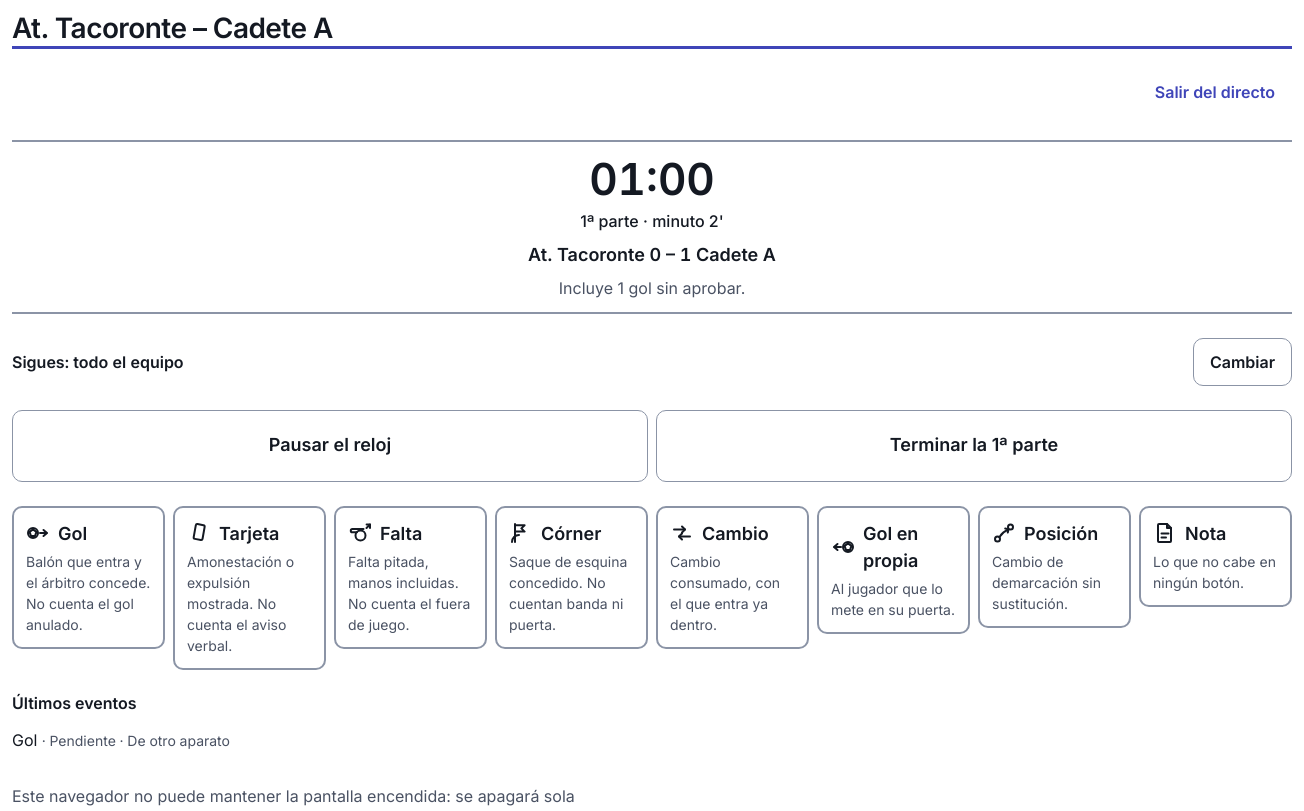
Test: A12 · Directo, esqueleto › terminar la parte pide confirmación en el mismo sitio, con el foco en la pregunta
Click the button "Terminar la 1ª parte".
click(974, 446)  # box [656,410,1292,482]
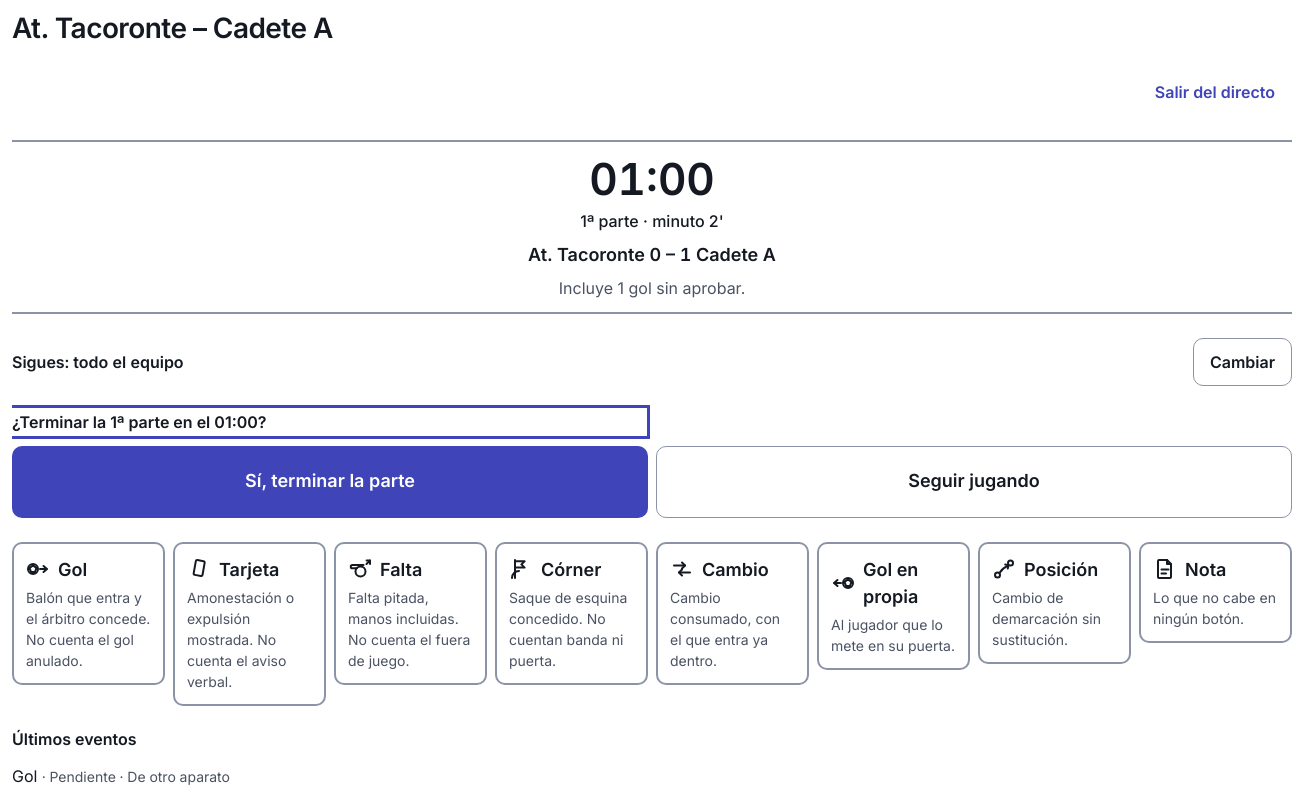
Click the button "Seguir jugando".
click(974, 482)  # box [656,446,1292,518]
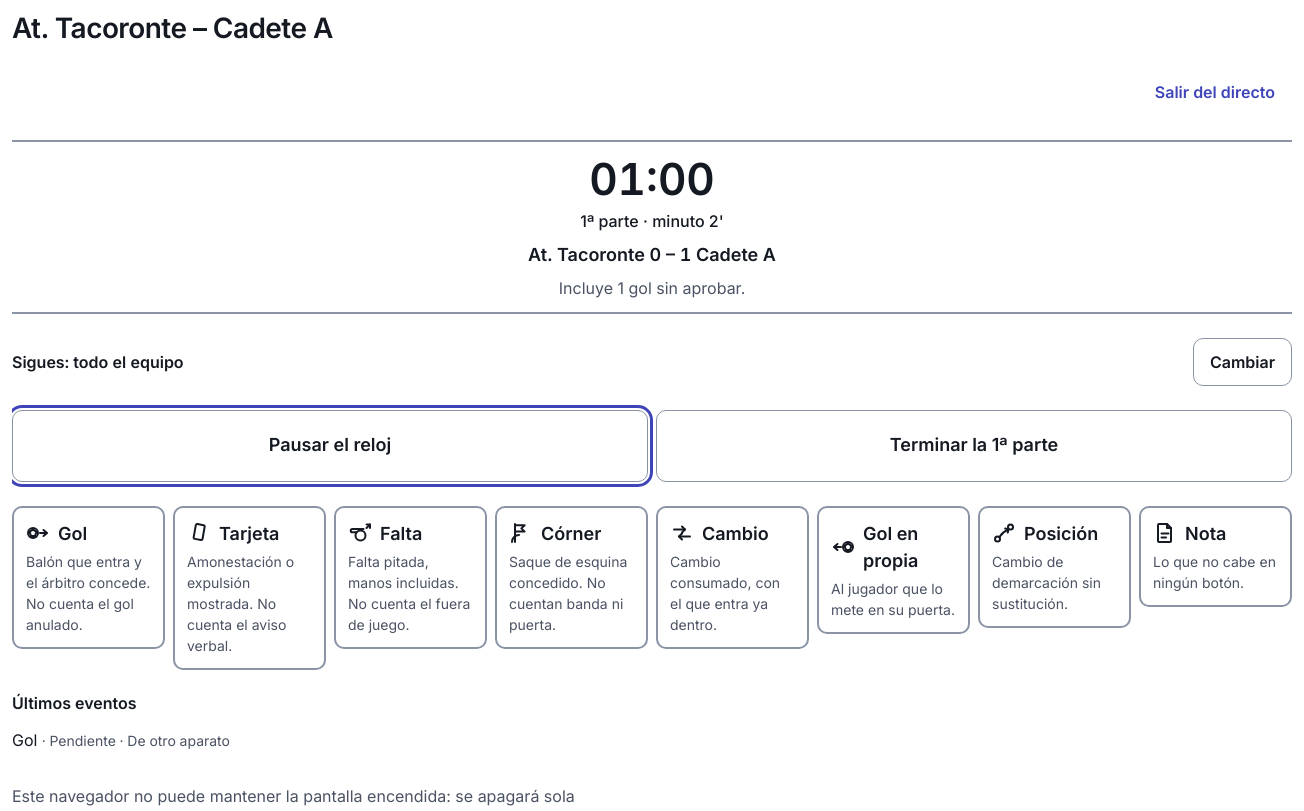
Click the button "Terminar la 1ª parte".
click(974, 446)  # box [656,410,1292,482]
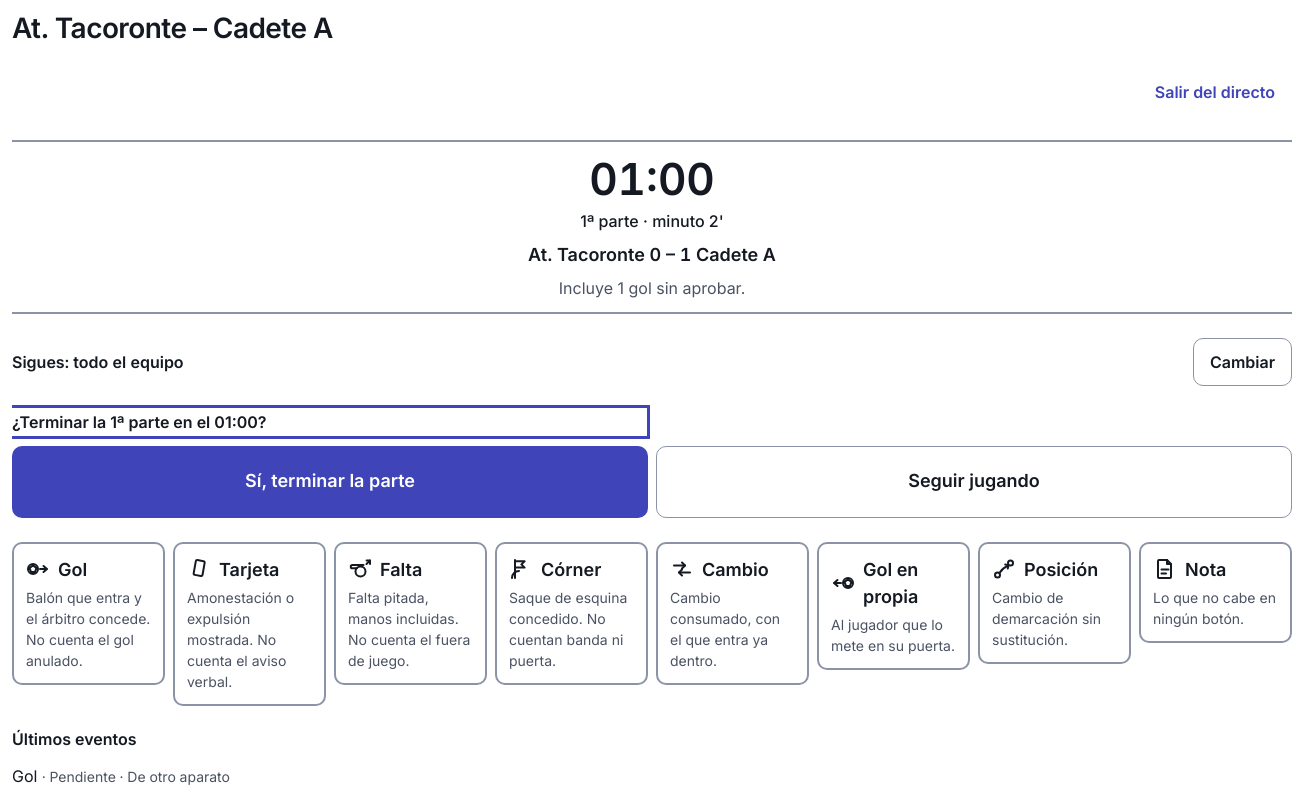
Click the button "Sí, terminar la parte".
click(330, 482)  # box [12,446,648,518]
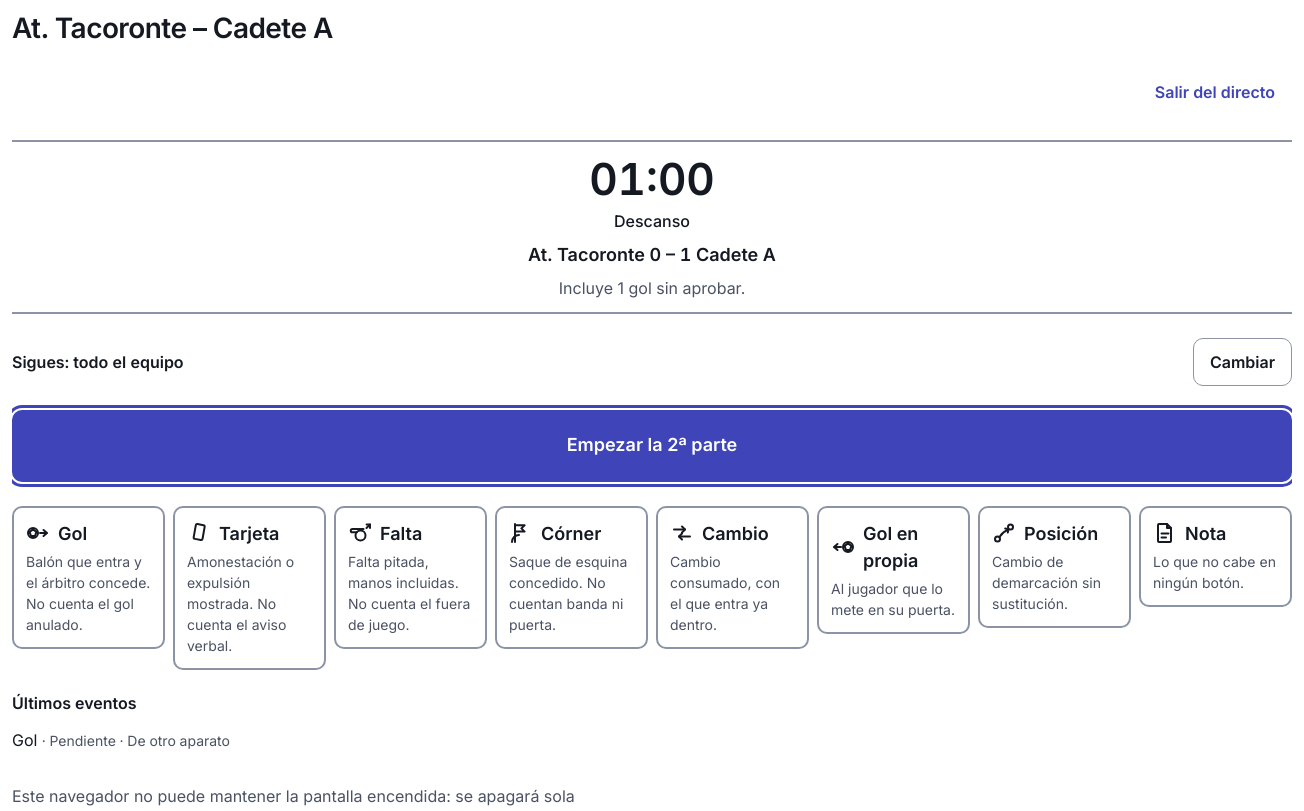
Result: the text "Descanso" is shown at [614,209,690,233]
Result: the button "Empezar la 2ª parte" is shown at [12,410,1292,482]
